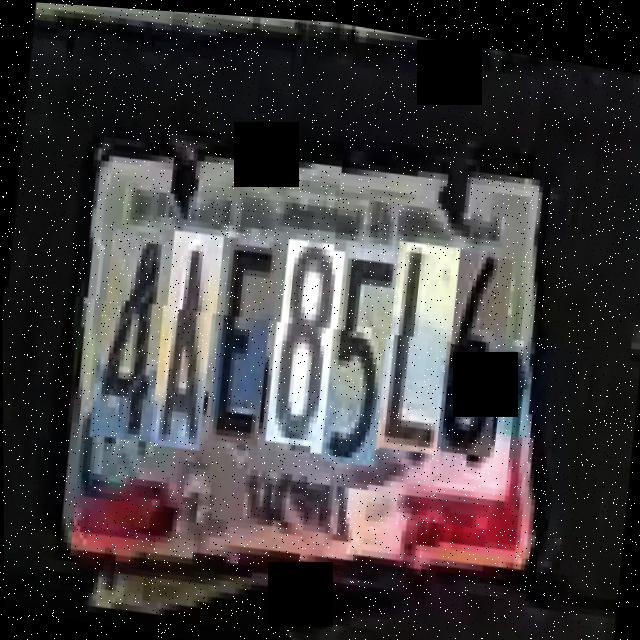4: (90, 230, 174, 453)
5: (323, 235, 399, 468)
6: (438, 243, 514, 458)
8: (265, 240, 346, 456)
A: (150, 232, 224, 459)
E: (209, 239, 280, 454)
L: (376, 235, 461, 458)
